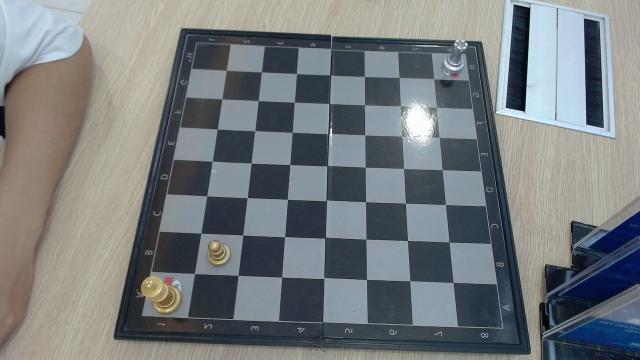black_king: (140, 275, 181, 314)
black_pawn: (208, 239, 231, 265)
white_rook: (442, 37, 468, 72)
